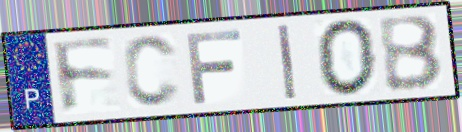B: (375, 12, 446, 94)
C: (121, 33, 184, 111)
F: (49, 36, 118, 118), (183, 27, 245, 106)
I: (275, 22, 299, 102)
O: (313, 17, 379, 99)
